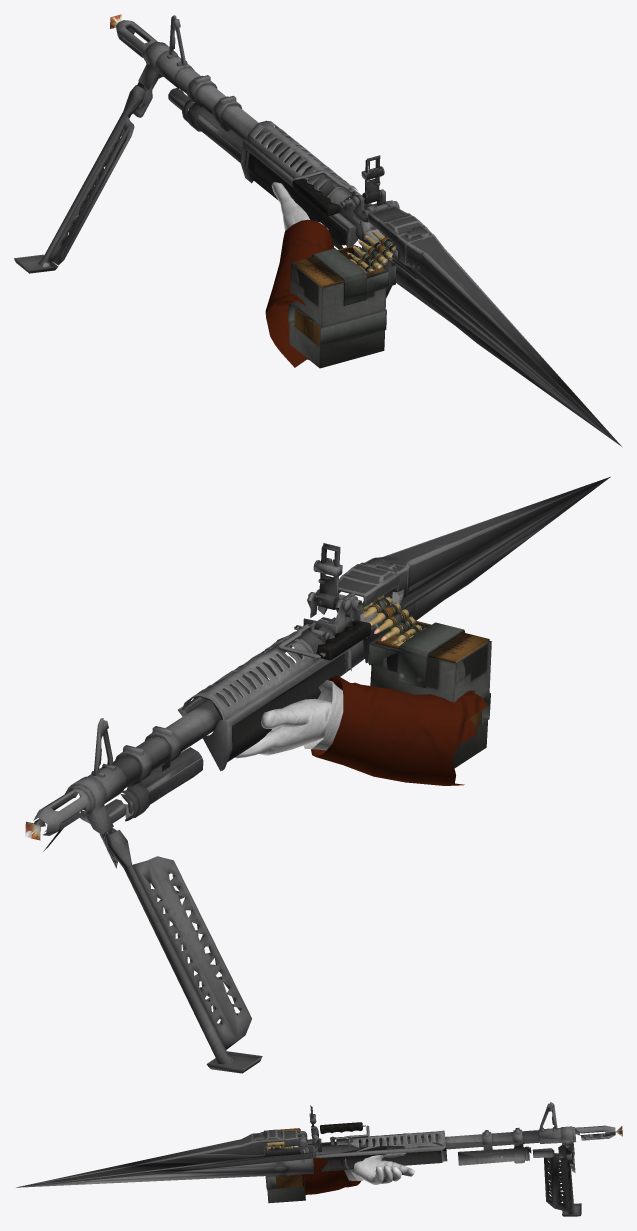
Rendered from frame_1.obj.
3 renders of one model, top to bottom at view 1: azimuth 30°, elevation 25°; view 2: azimuth 150°, elevation 25°; view 3: azimuth 270°, elevation 25°, orthographic. The views are drawn at different scales.
Visible parts, largest first — view 1: Mesh.005, PlayerModelMerged.001_PlayerModelMerged, Mesh.001; view 2: Mesh.005, PlayerModelMerged.001_PlayerModelMerged, Mesh.001; view 3: Mesh.005, PlayerModelMerged.001_PlayerModelMerged.
Boxes of the visible parts, left/top/right/bottom form: Mesh.005: left=14, top=15, right=622, bottom=447; PlayerModelMerged.001_PlayerModelMerged: left=265, top=182, right=333, bottom=367; Mesh.001: left=347, top=230, right=395, bottom=272; Mesh.005: left=33, top=476, right=610, bottom=1073; PlayerModelMerged.001_PlayerModelMerged: left=235, top=675, right=487, bottom=785; Mesh.001: left=362, top=597, right=421, bottom=644; Mesh.005: left=16, top=1102, right=615, bottom=1216; PlayerModelMerged.001_PlayerModelMerged: left=301, top=1153, right=414, bottom=1194.
Bounding box in the file's own units: 0.4588 × 0.6138 × 2.29.
